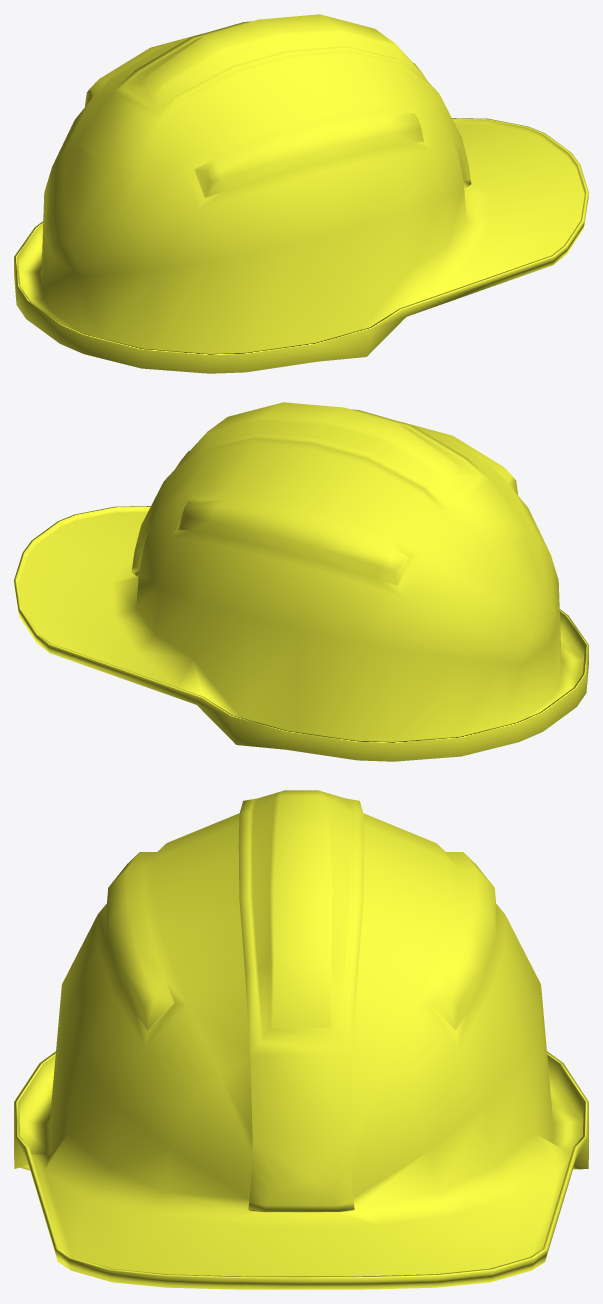
Rendered from Props_Helmet.fbx.
The picture shows the model from 3 angles, top to bottom: view 1: azimuth 30°, elevation 25°; view 2: azimuth 150°, elevation 25°; view 3: azimuth 270°, elevation 25°; orthographic projection. The views are drawn at different scales.
Parts seen in each view (by area): view 1: Props_Helmet; view 2: Props_Helmet; view 3: Props_Helmet.
Boxes of the visible parts, left/top/right/bottom form: Props_Helmet: left=14, top=14, right=588, bottom=373; Props_Helmet: left=14, top=402, right=588, bottom=761; Props_Helmet: left=14, top=790, right=588, bottom=1289.
Bounding box in the file's own units: 55.89 × 26.13 × 39.64.
